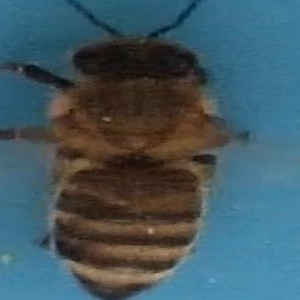bee: (2, 9, 252, 300)
